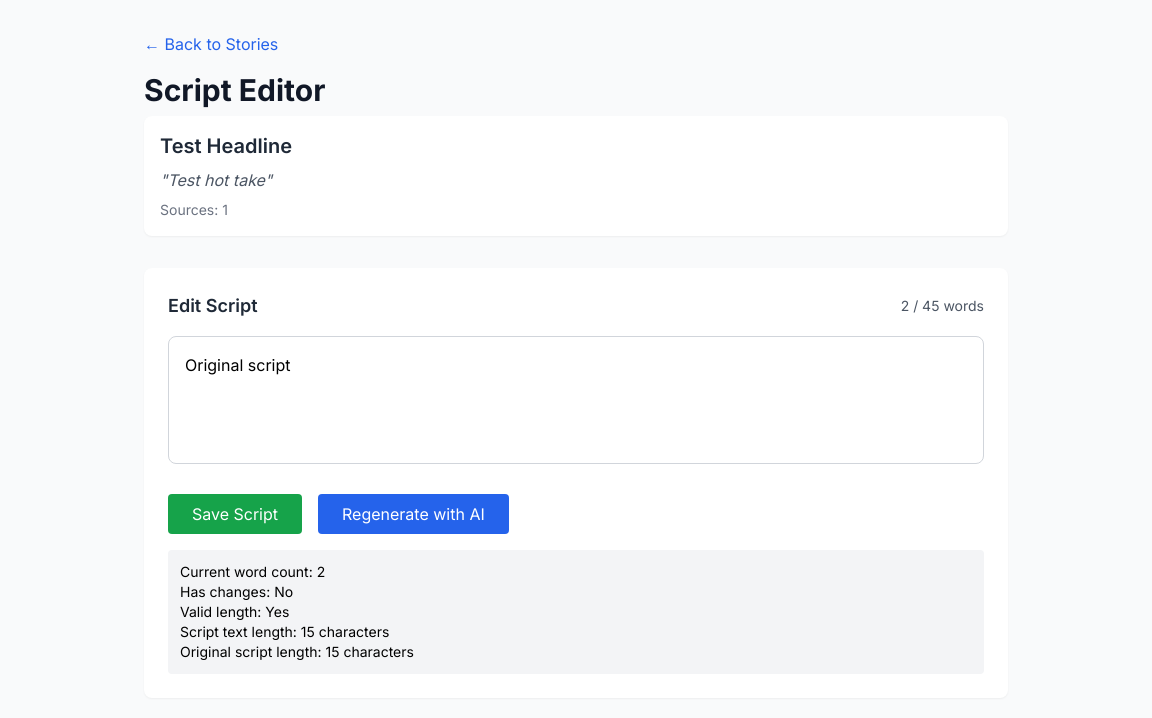
Test: ScriptPage › script editing › should handle script update errors
Replace the text in the text box showing "Original script" with "Updated script" at (576, 400), box [168,336,984,464]
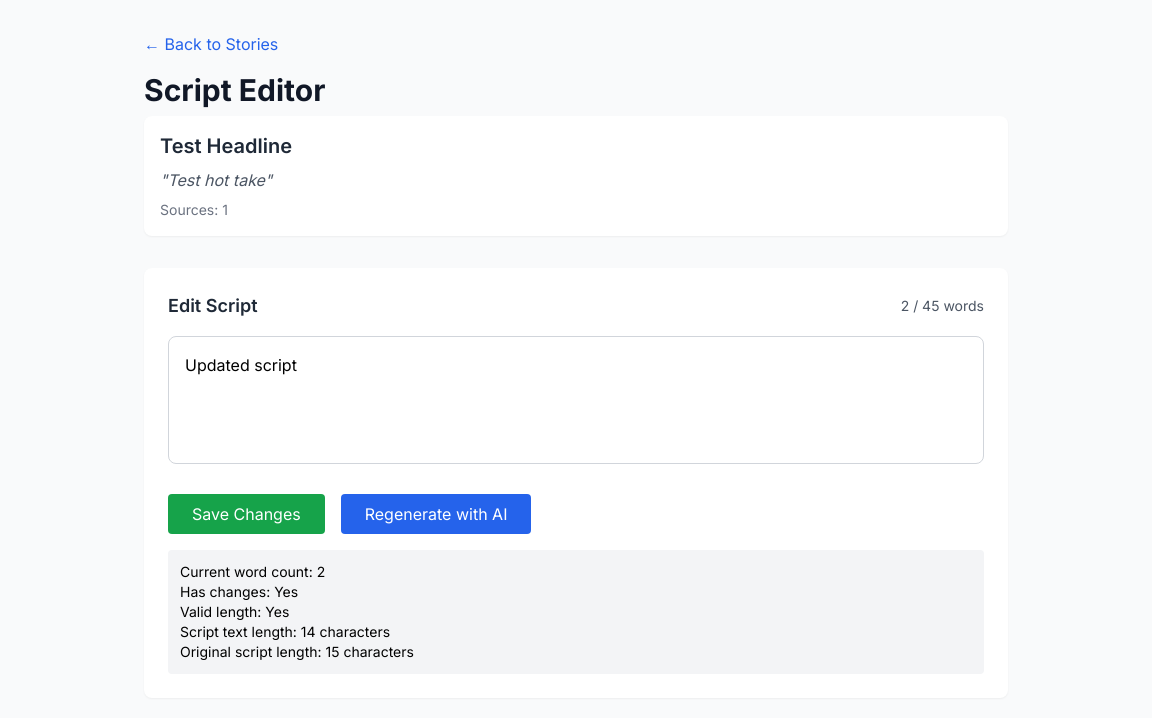
Click the button "Save Changes" at (246, 514), box [168,494,325,534]
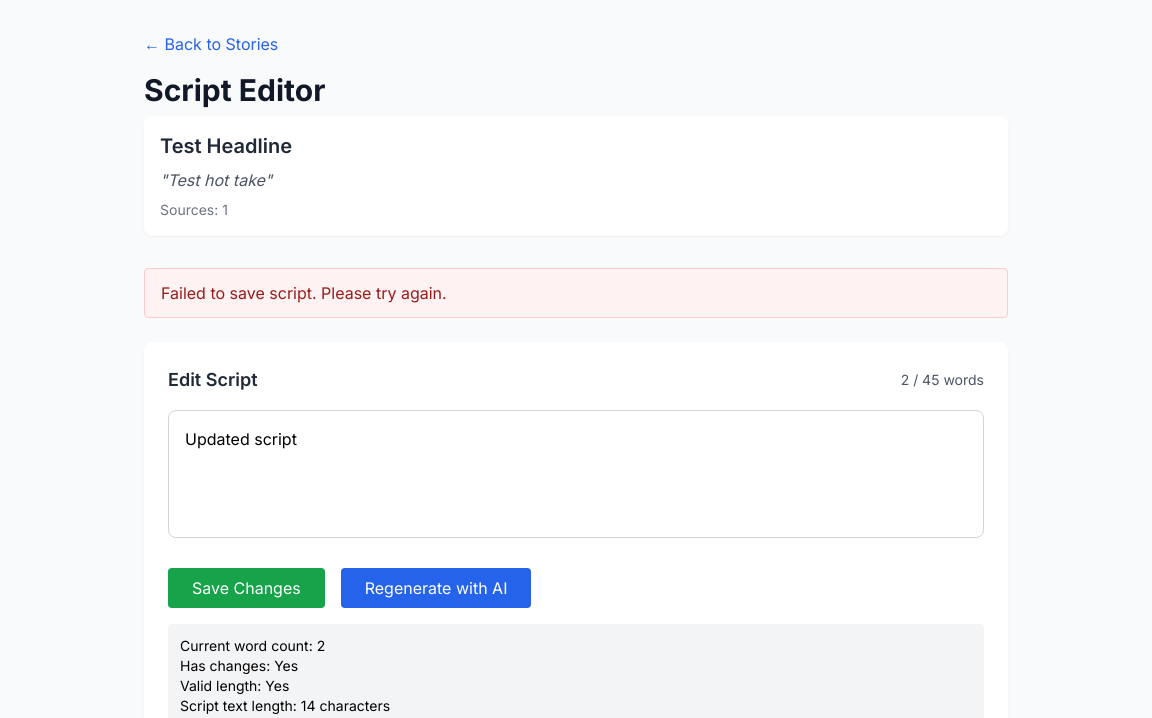
expect the text "Failed to save script. Please try again." is shown: met, box [144,268,1008,318]
